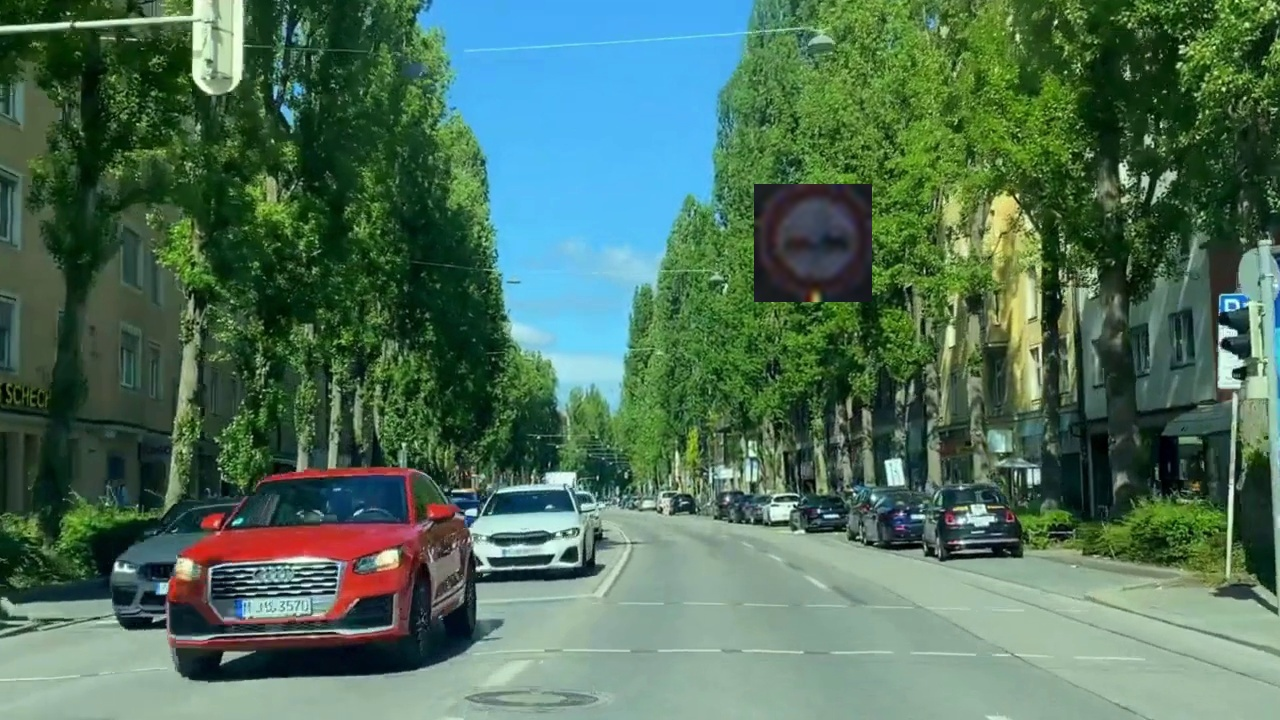No passing: (754, 184, 872, 302)
